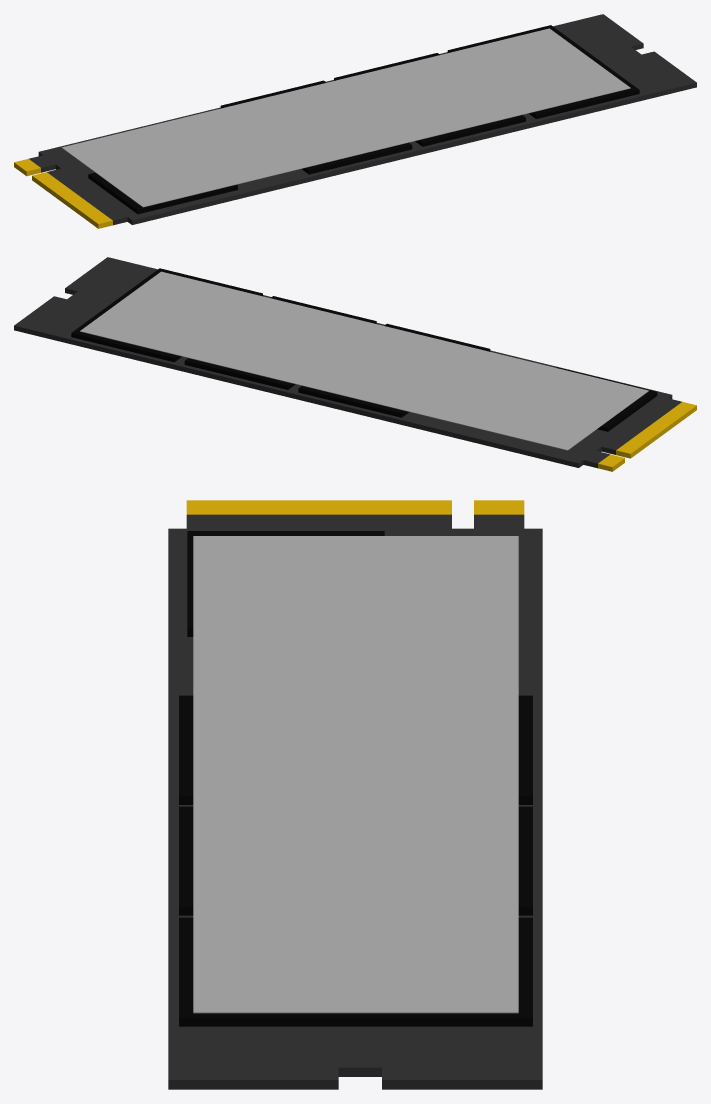
Rendered from Laptop_SSD_Long.fbx.
3 views of the same model, one above another, from view 1: azimuth 30°, elevation 25°; view 2: azimuth 150°, elevation 25°; view 3: azimuth 270°, elevation 25° (orthographic). The views are drawn at different scales.
Visible parts, largest first — view 1: Laptop_SSD_1.001; view 2: Laptop_SSD_1.001; view 3: Laptop_SSD_1.001.
Part boxes in pixels (<box>): Laptop_SSD_1.001: <box>14,14,696,228</box>; Laptop_SSD_1.001: <box>14,257,696,471</box>; Laptop_SSD_1.001: <box>168,500,542,1089</box>.
Bounding box in the file's own units: 34.41 × 0.5234 × 9.4.
